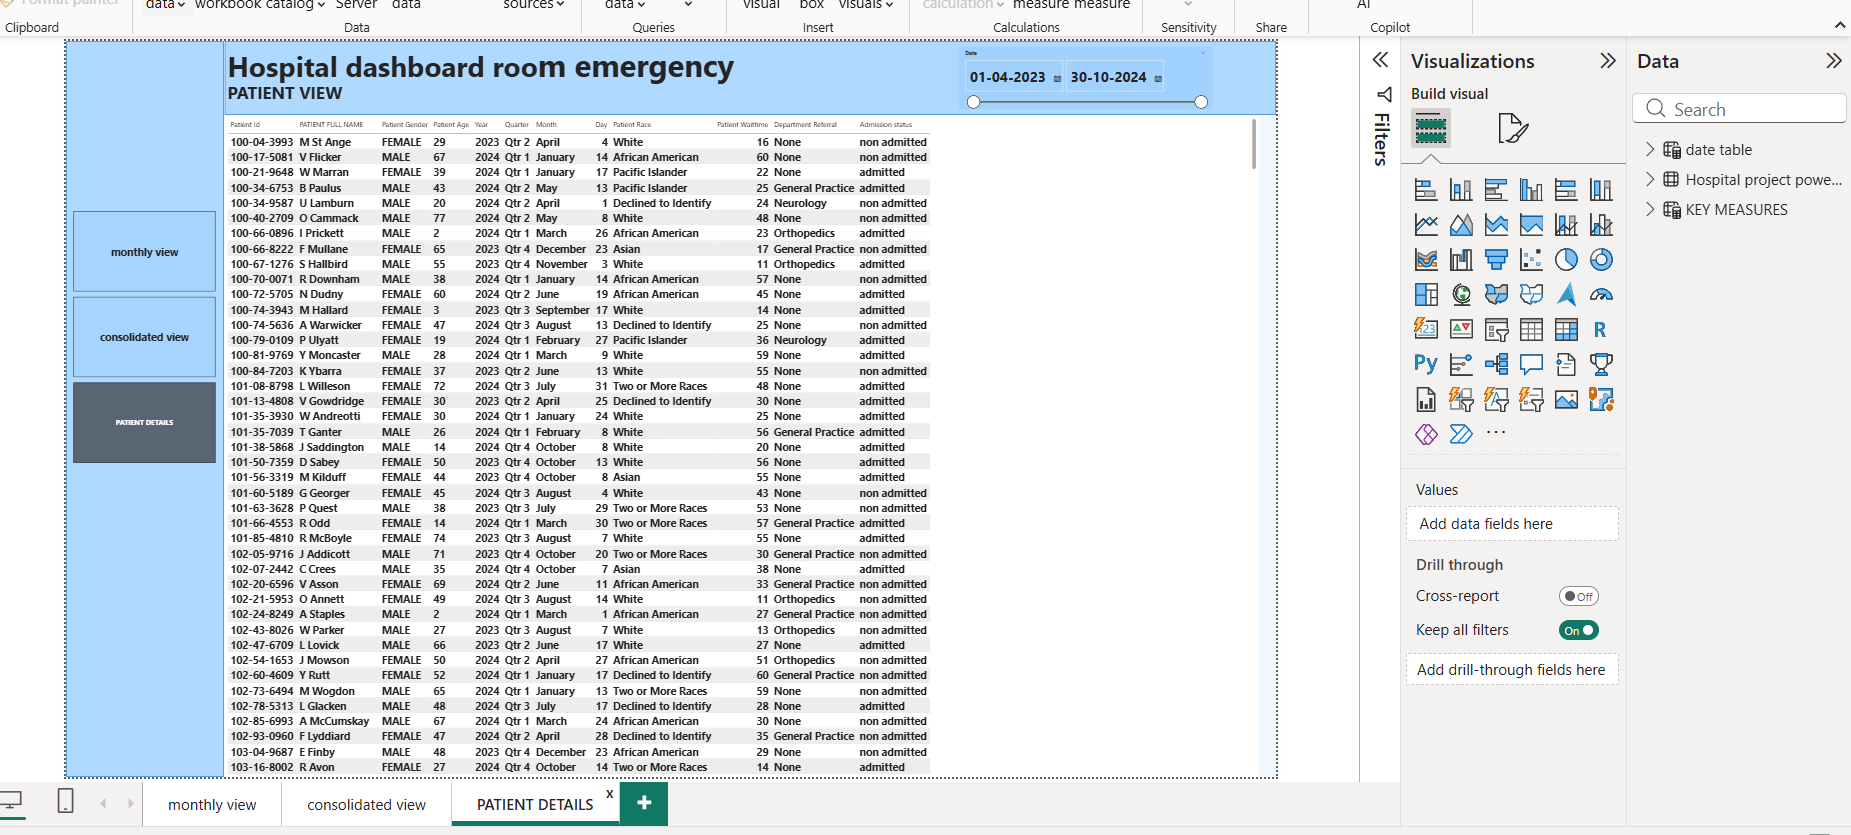

The page's visual inventory and layout, read from the dashboard file:
{"tool":"powerbi","page":{"name":"PATIENT DETAILS","canvas":[2300,1400],"ordinal":2},"visuals":[{"type":"shape","box":[0,0,300,1400],"z":0},{"type":"shape","box":[300.8,0,1999.7,140.5],"z":1000},{"type":"textbox","box":[300.8,0,1035.6,103.6],"z":2000},{"type":"textbox","box":[302.5,72.5,302.5,140],"z":3000},{"type":"slicer","fields":{"Values":["date table.Date"]},"box":[1697.5,12.5,482.5,117.5],"z":4000},{"type":"tableEx","fields":{"Values":["Hospital project power bi.Patient Id","Hospital project power bi.PATIENT FULL NAME","Hospital project power bi.Patient Gender","Hospital project power bi.Patient Age","Hospital project power bi.Patient Admission Date.Variation.Date Hierarchy.Year","Hospital project power bi.Patient Admission Date.Variation.Date Hierarchy.Quarter","Hospital project power bi.Patient Admission Date.Variation.Date Hierarchy.Month","Hospital project power bi.Patient Admission Date.Variation.Date Hierarchy.Day","Hospital project power bi.Patient Race","Hospital project power bi.Patient Waittime","Hospital project power bi.Department Referral","Hospital project power bi.Admission status"]},"box":[302.5,142.5,1967.5,1257.5],"z":5000},{"type":"pageNavigator","box":[15,322.5,270,480],"z":6000}]}

Visuals, with their boxes on the page's 2300x1400 design canvas (x1, y1, x2, y2). These are canvas units, not pixel positions in the 1851x835 screenshot, which may show the page scaled, cropped or inside an application window:
shape: <bbox>0, 0, 300, 1400</bbox>
shape: <bbox>301, 0, 2300, 140</bbox>
textbox: <bbox>301, 0, 1336, 104</bbox>
textbox: <bbox>302, 72, 605, 212</bbox>
slicer - date table.Date: <bbox>1698, 12, 2180, 130</bbox>
tableEx - Hospital project power bi.Patient Id x Hospital project power bi.PATIENT FULL NAME: <bbox>302, 142, 2270, 1400</bbox>
pageNavigator: <bbox>15, 322, 285, 802</bbox>
